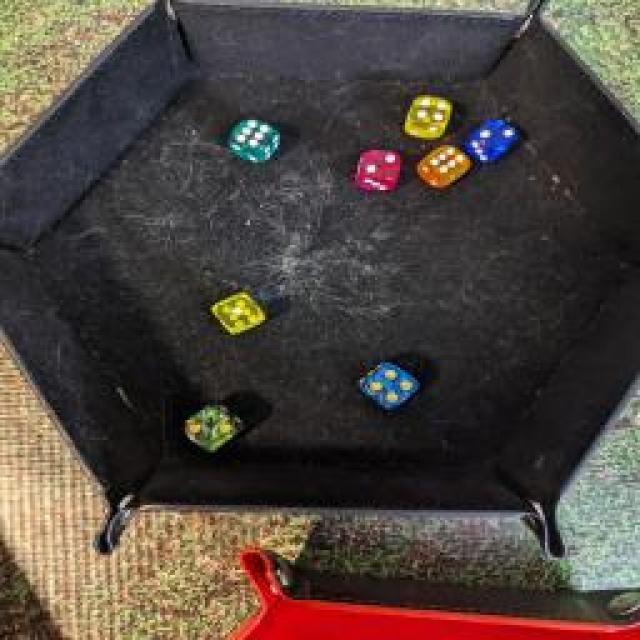dice_1: (210, 292, 265, 336)
dice_2: (462, 118, 528, 162), (181, 402, 241, 450), (355, 146, 405, 192)
dice_4: (351, 360, 419, 408), (400, 91, 455, 134)
dice_6: (223, 115, 285, 165), (415, 142, 470, 190)
